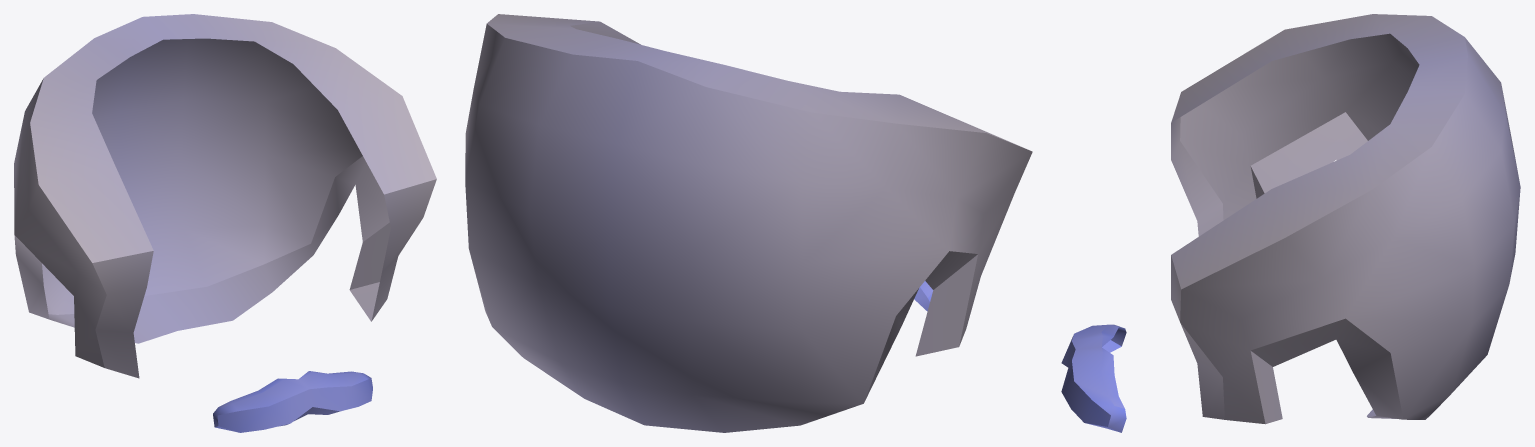
The model's file is Hairs_03.fbx.
The picture shows the model from 3 angles, left to right: view 1: azimuth 30°, elevation 25°; view 2: azimuth 150°, elevation 25°; view 3: azimuth 270°, elevation 25°; orthographic projection. The views are drawn at different scales.
Parts seen in each view (by area): view 1: Hairs_03; view 2: Hairs_03; view 3: Hairs_03.
Part boxes in pixels (bbox=[...]): Hairs_03: bbox=[14, 14, 436, 432]; Hairs_03: bbox=[465, 14, 1032, 432]; Hairs_03: bbox=[1061, 14, 1520, 432].
Bounding box in the file's own units: 73.19 × 55.45 × 68.11.
